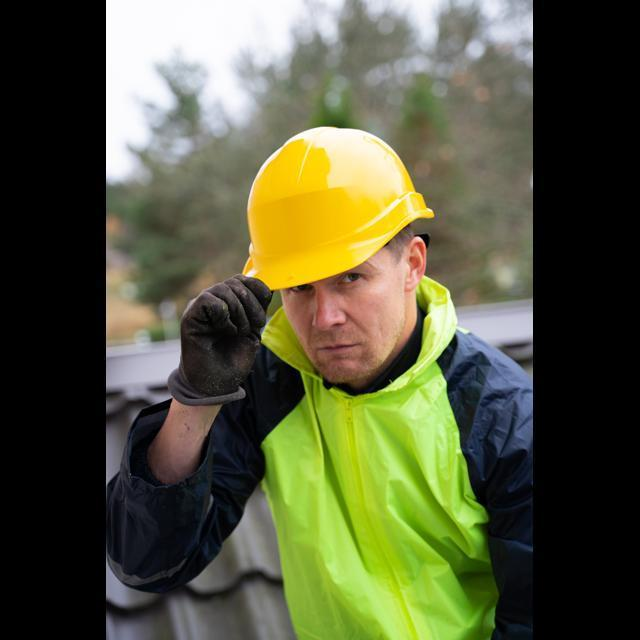helmet: (223, 119, 444, 298)
